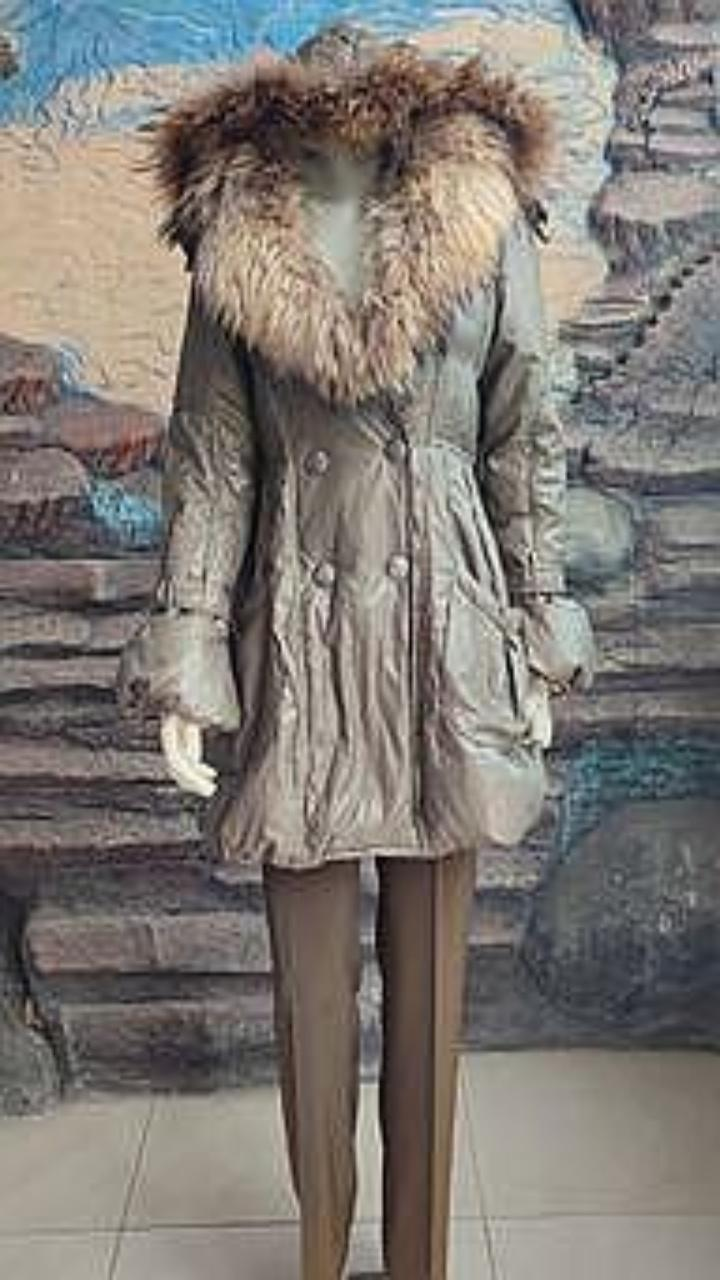Coat: (118, 47, 591, 866)
